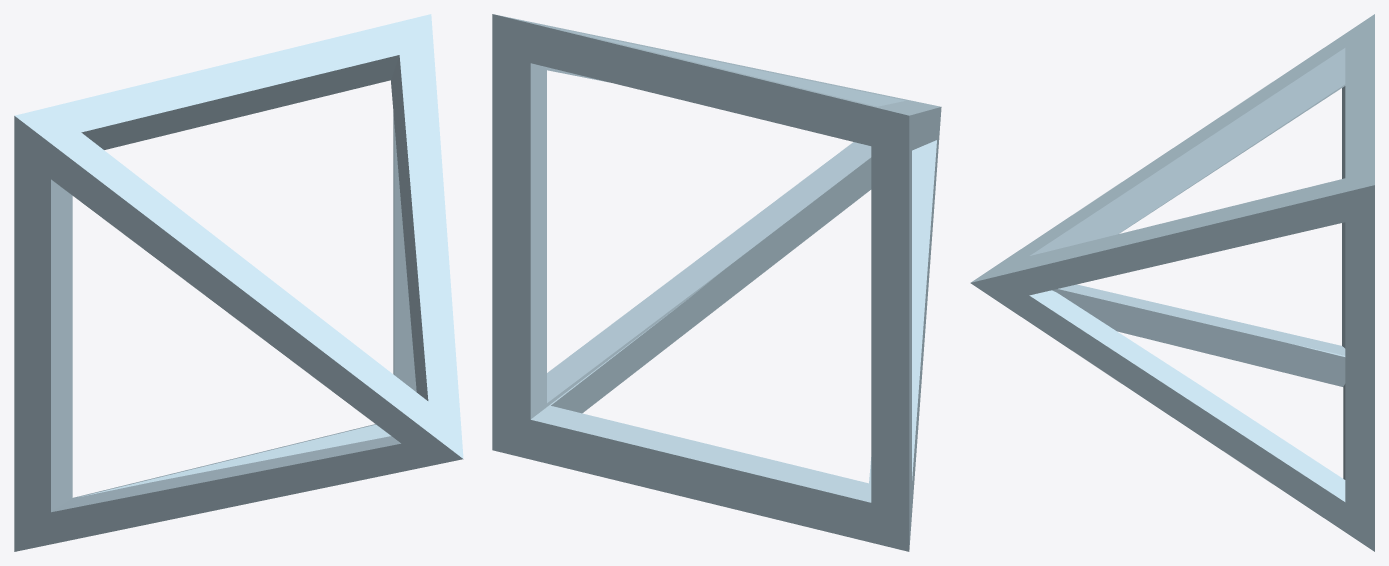
File: 2dconverter.gltf
The picture shows the model from 3 angles, left to right: view 1: azimuth 30°, elevation 25°; view 2: azimuth 150°, elevation 25°; view 3: azimuth 270°, elevation 25°; orthographic projection. The views are drawn at different scales.
Visible parts, largest first — view 1: Part 1; view 2: Part 1; view 3: Part 1.
Boxes of the visible parts, x1=… form: Part 1: x1=14, y1=14, x2=463, y2=551; Part 1: x1=492, y1=14, x2=941, y2=551; Part 1: x1=970, y1=14, x2=1374, y2=551.
Bounding box in the file's own units: 0.0612 × 0.0612 × 0.0612.
